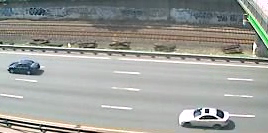car: (177, 105, 232, 131), (5, 57, 44, 77)
